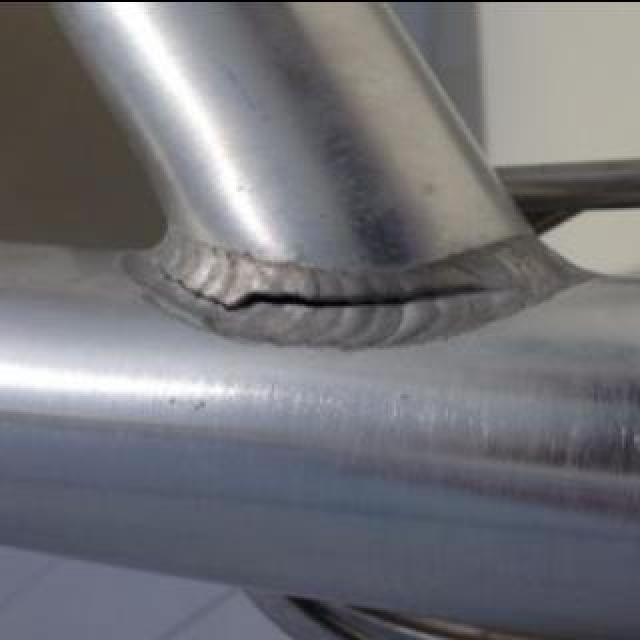crack: (142, 253, 524, 319)
